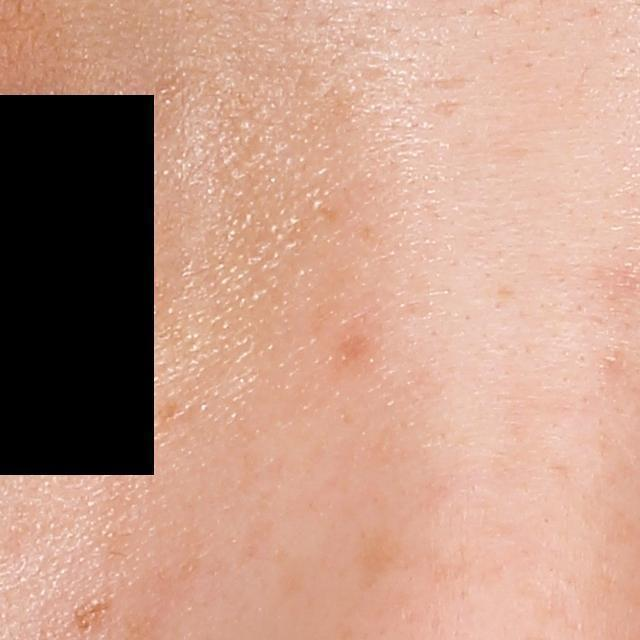melasma: (69, 595, 114, 640)
